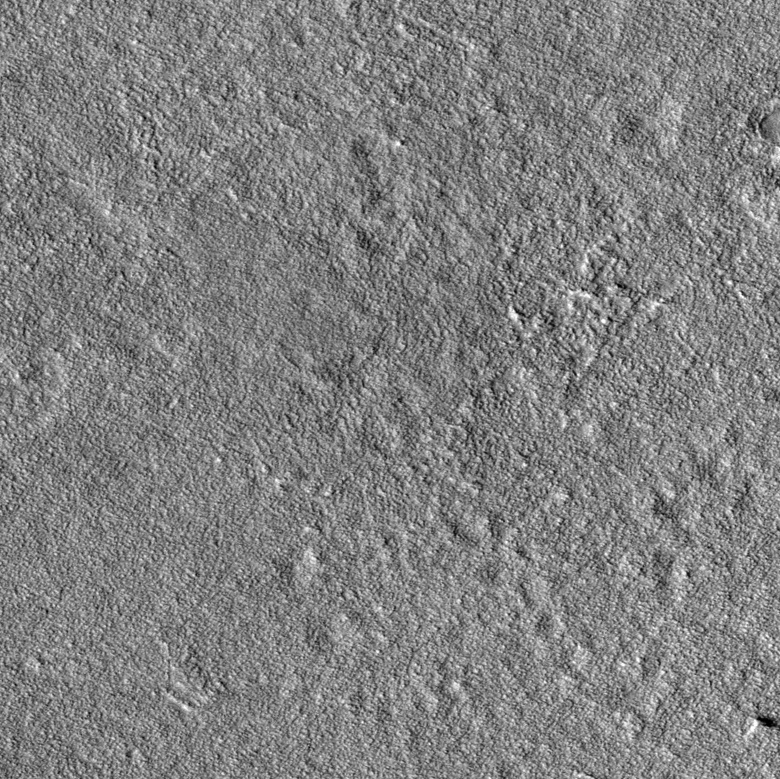dust_devil: (744, 714, 780, 741)
